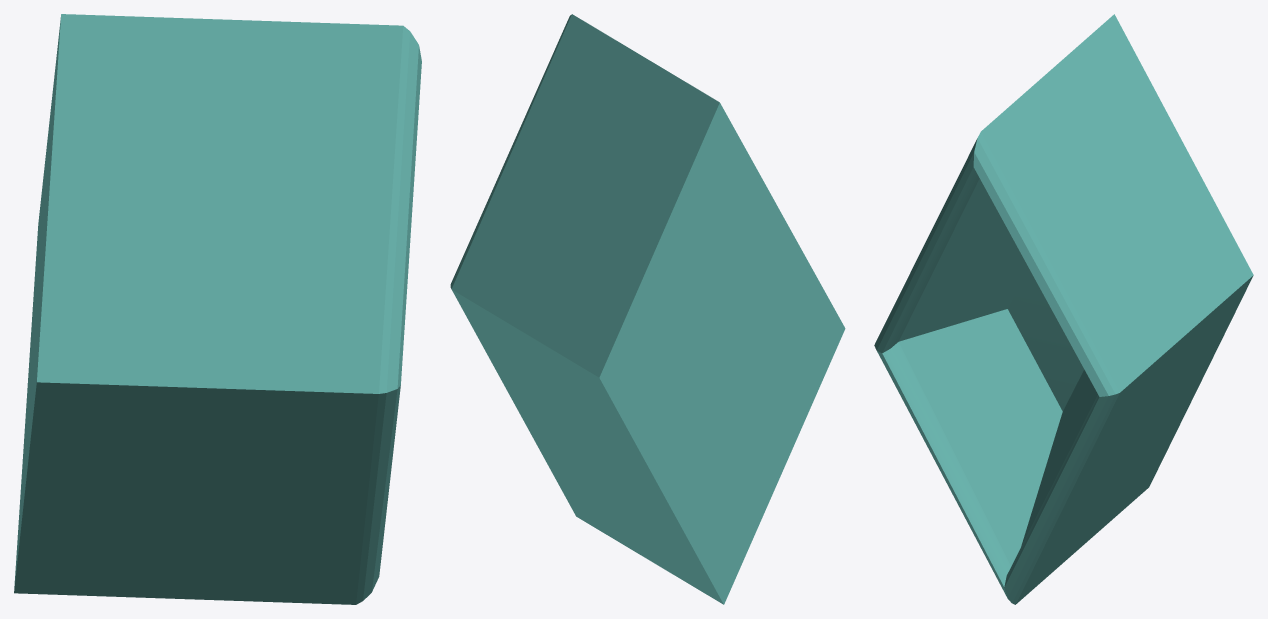
Rendered from BR4_8shapes_Kite_Classic_Metal.001 3.glb.
3 renders of one model, left to right at view 1: azimuth 30°, elevation 25°; view 2: azimuth 150°, elevation 25°; view 3: azimuth 270°, elevation 25°, orthographic. The views are drawn at different scales.
Parts seen in each view (by area): view 1: BR4_8shapes_Kite_Classic_Metal.001; view 2: BR4_8shapes_Kite_Classic_Metal.001; view 3: BR4_8shapes_Kite_Classic_Metal.001.
Boxes of the visible parts, left/top/right/bottom form: BR4_8shapes_Kite_Classic_Metal.001: left=14, top=14, right=421, bottom=604; BR4_8shapes_Kite_Classic_Metal.001: left=450, top=14, right=845, bottom=604; BR4_8shapes_Kite_Classic_Metal.001: left=874, top=14, right=1253, bottom=604.
Bounding box in the file's own units: 0.4836 × 0.6663 × 0.4612.
